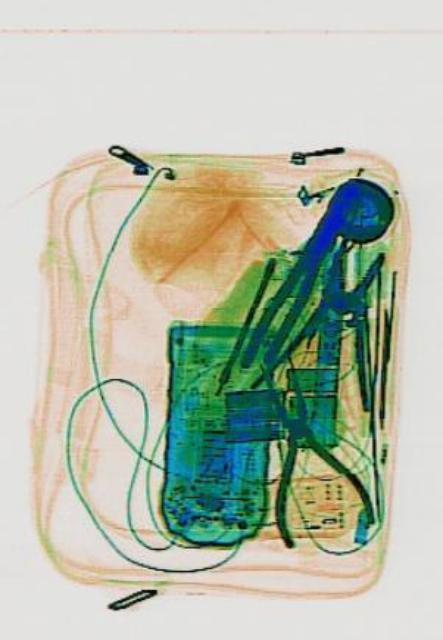Pliers: (253, 211, 412, 437), (233, 332, 375, 564), (233, 174, 357, 383)
